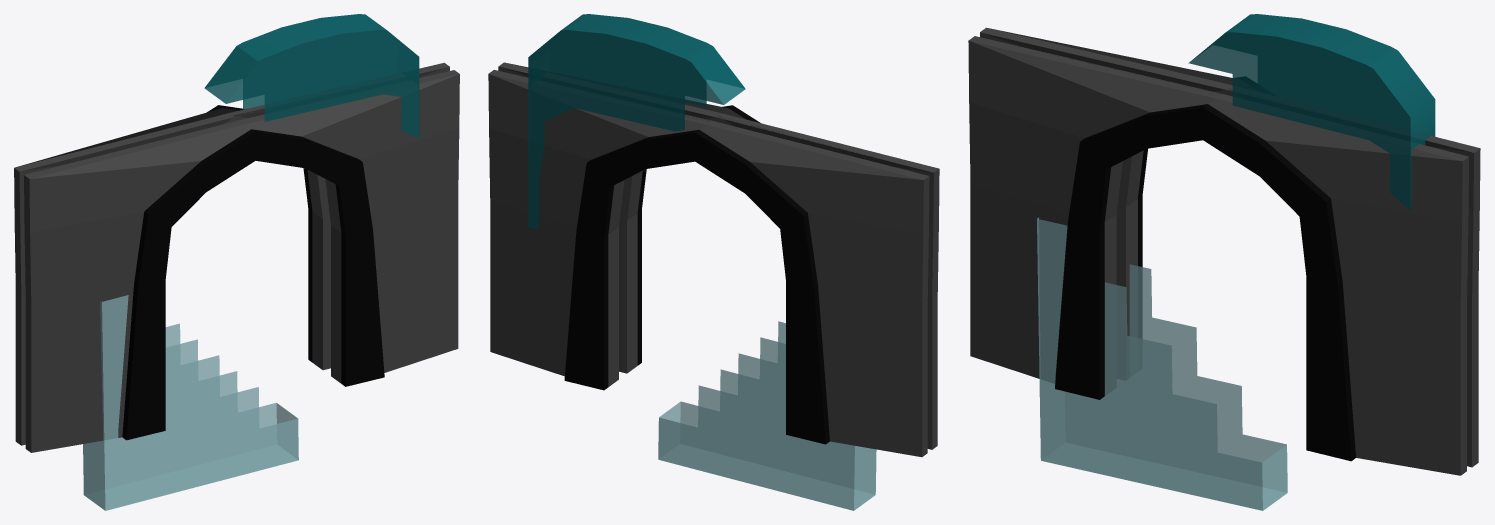
File: serveropendoor.fbx
The picture shows the model from 3 angles, left to right: view 1: azimuth 30°, elevation 25°; view 2: azimuth 150°, elevation 25°; view 3: azimuth 330°, elevation 25°; orthographic projection. The views are drawn at different scales.
Parts seen in each view (by area): view 1: dooropen; view 2: dooropen; view 3: dooropen.
Boxes of the visible parts, left/top/right/bottom form: dooropen: left=14, top=14, right=459, bottom=510; dooropen: left=488, top=14, right=939, bottom=510; dooropen: left=968, top=14, right=1480, bottom=510.
Bounding box in the file's own units: 23.88 × 22.03 × 3.58.
